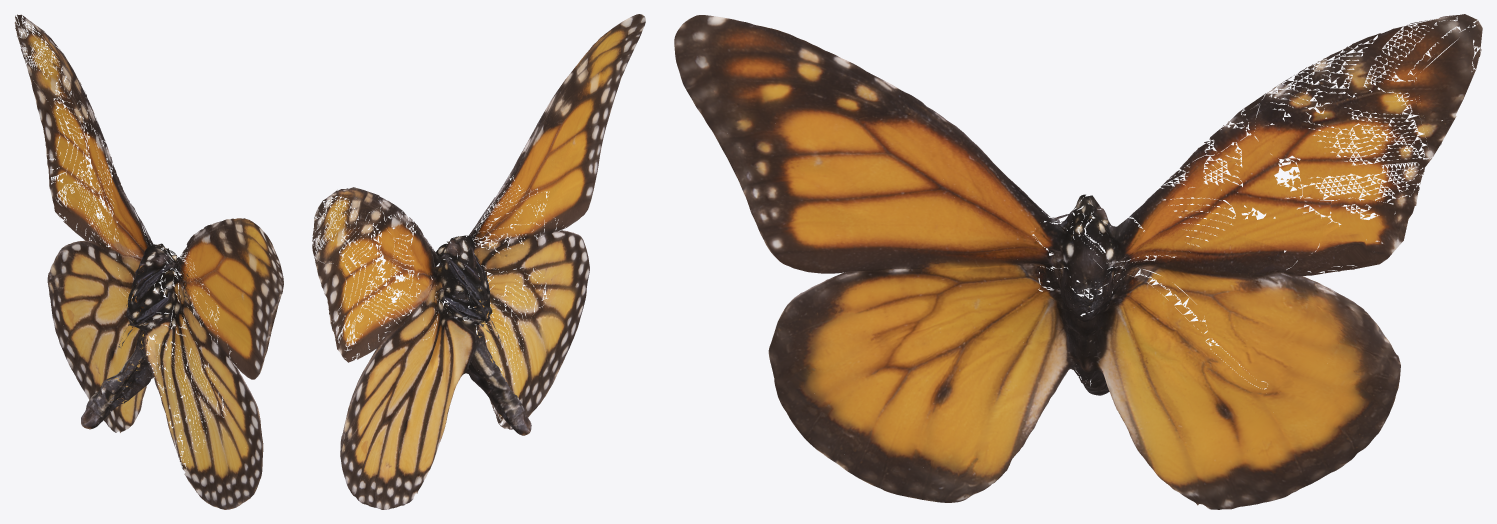
File: monarch_mod5.glb
3 views of the same model, side by side, from view 1: azimuth 30°, elevation 25°; view 2: azimuth 150°, elevation 25°; view 3: azimuth 270°, elevation 25° (orthographic). The views are drawn at different scales.
Visible parts, largest first — view 1: Object_2, Object_4, Object_3; view 2: Object_4, Object_2, Object_3; view 3: Object_3, Object_2, Object_4.
Boxes of the visible parts, box(x1,y1,x2,y2) form: Object_2: box(15, 14, 239, 471); Object_4: box(14, 15, 283, 509); Object_3: box(47, 227, 283, 494); Object_4: box(312, 14, 645, 509); Object_2: box(312, 176, 565, 423); Object_3: box(340, 14, 636, 509); Object_3: box(674, 15, 1400, 509); Object_2: box(1031, 14, 1482, 388); Object_4: box(681, 16, 1481, 502).
Size of the model in its own units: 0.5908 by 1.96 by 2.91.
1 material, 1 textured.
